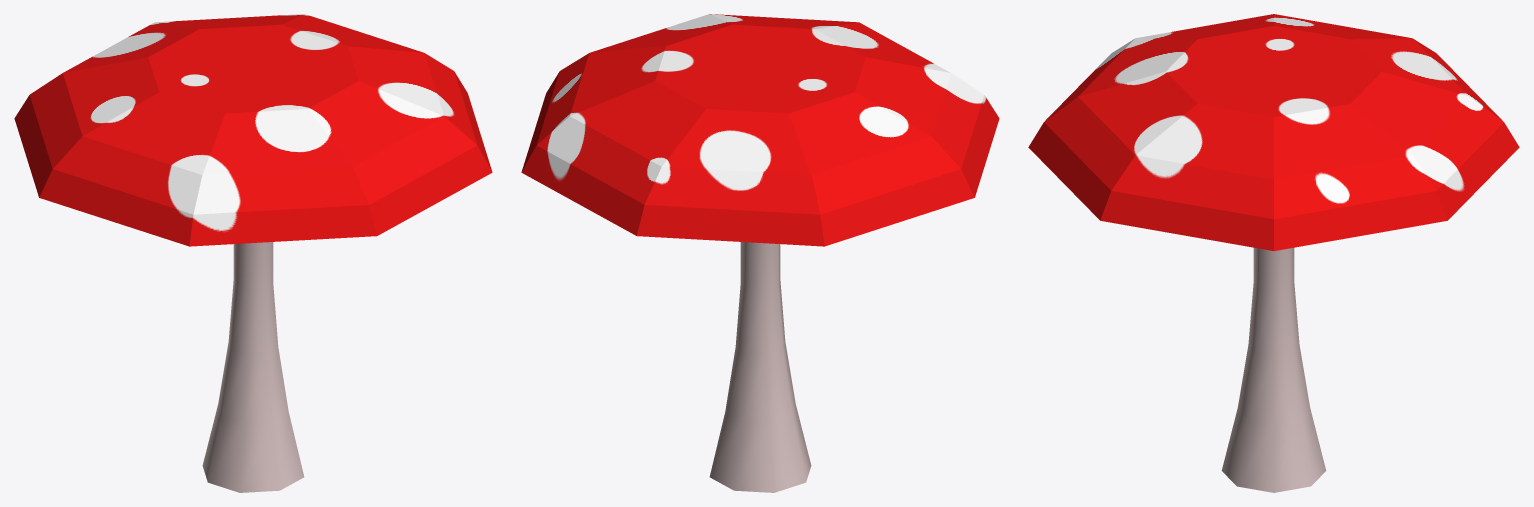
File: Mushroom.FBX
3 views of the same model, side by side, from view 1: azimuth 30°, elevation 25°; view 2: azimuth 150°, elevation 25°; view 3: azimuth 270°, elevation 25° (orthographic).
Visible parts, largest first — view 1: Cylinder001; view 2: Cylinder001; view 3: Cylinder001.
Boxes of the visible parts, x1=… form: Cylinder001: x1=14, y1=14, x2=492, y2=492; Cylinder001: x1=521, y1=14, x2=999, y2=492; Cylinder001: x1=1028, y1=14, x2=1519, y2=492.
Bounding box in the file's own units: 0.5123 × 0.4594 × 0.5123.
